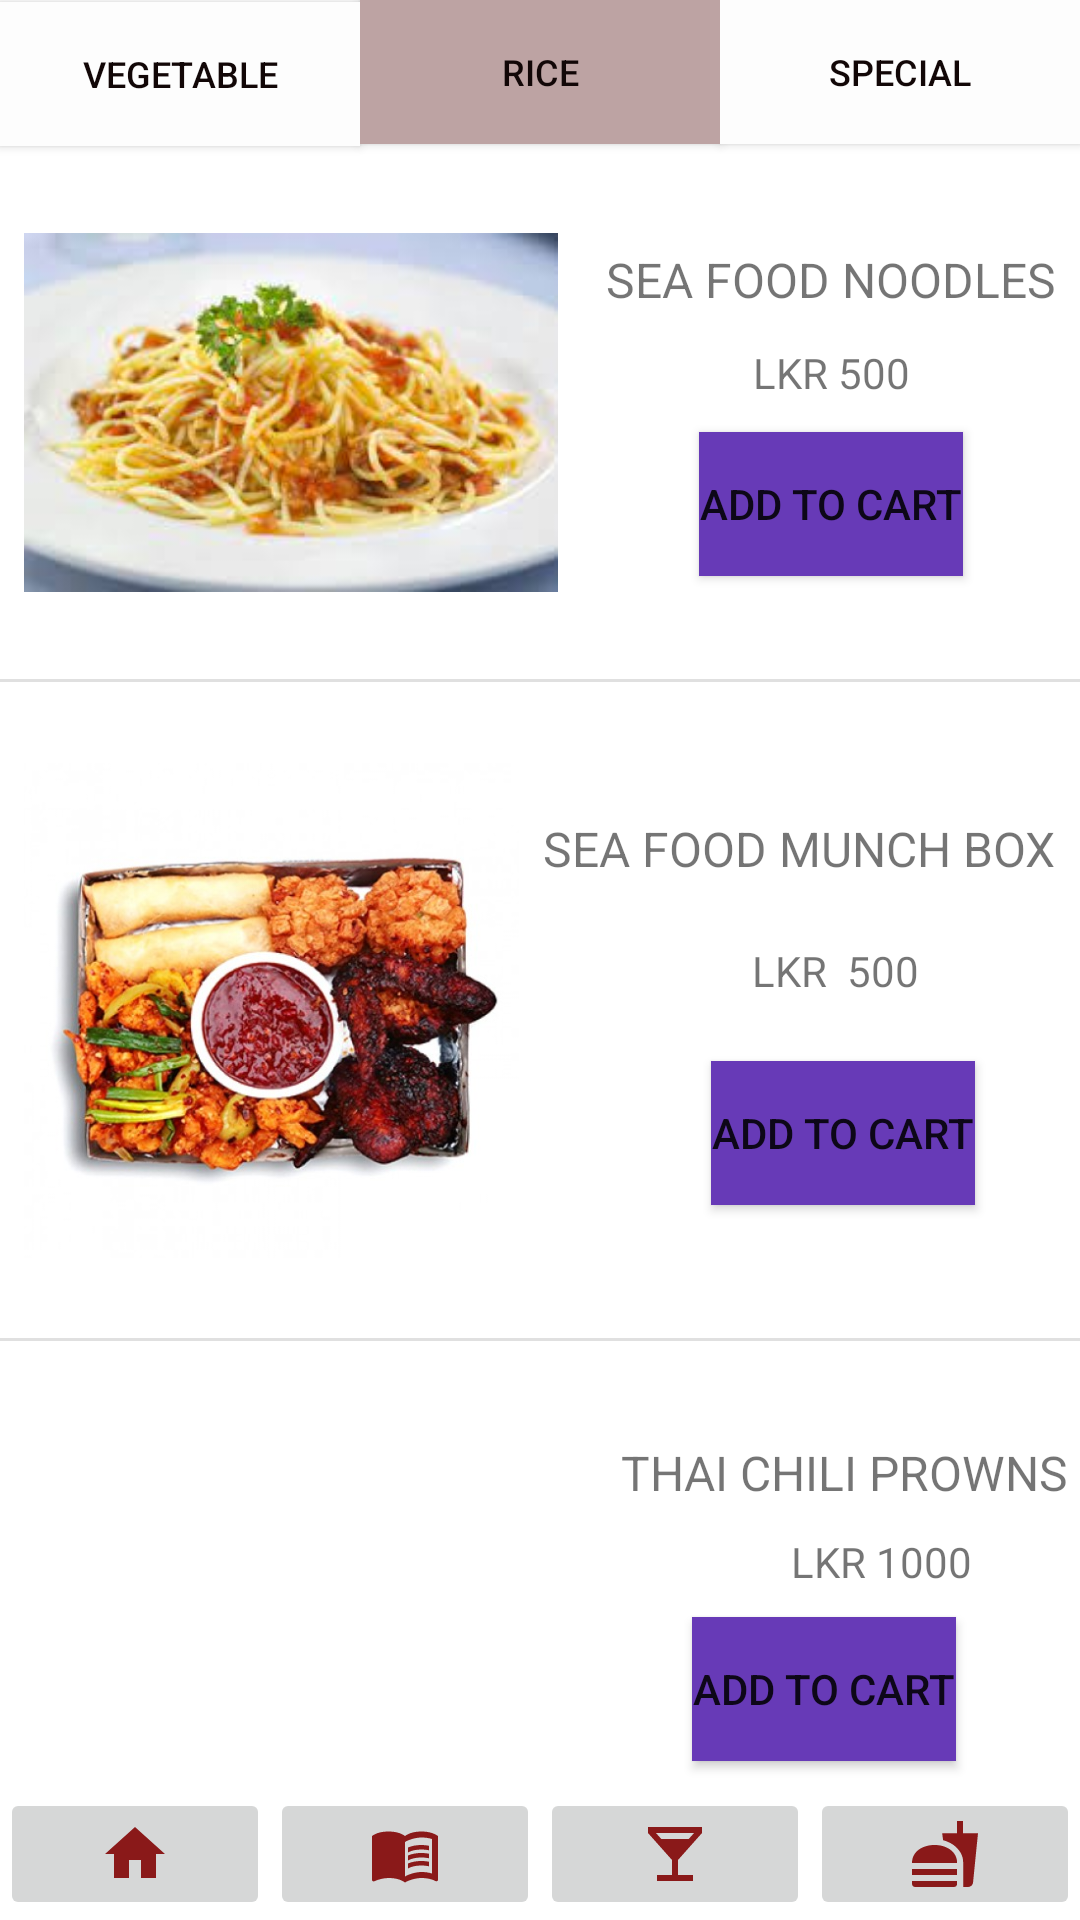

Point at icon controls on the screen. Image size 1080w x 1920h, points as (x,y).
book: (405,1854)
fastfood: (945,1854)
home: (135,1854)
local bar: (675,1854)
